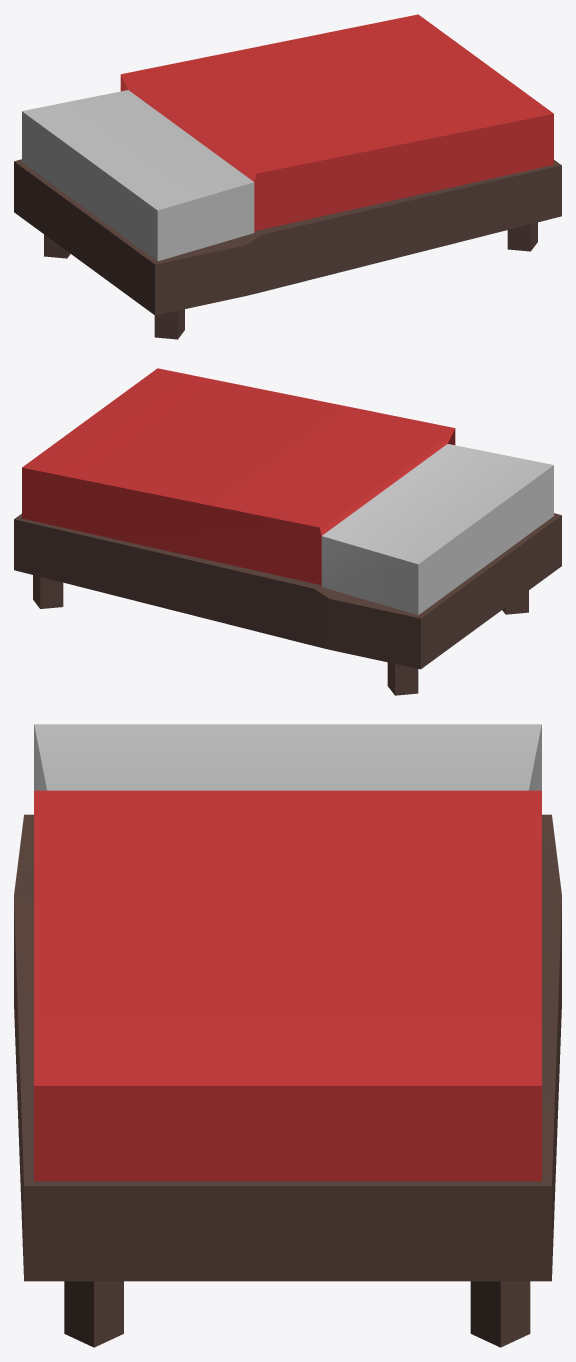
The model's file is Bed.fbx.
The picture shows the model from 3 angles, top to bottom: view 1: azimuth 30°, elevation 25°; view 2: azimuth 150°, elevation 25°; view 3: azimuth 270°, elevation 25°; orthographic projection. The views are drawn at different scales.
Parts seen in each view (by area): view 1: Bed; view 2: Bed; view 3: Bed.
Part boxes in pixels (box(x1,y1,x2,y2)): Bed: box(14, 14, 561, 339); Bed: box(14, 368, 561, 695); Bed: box(14, 724, 561, 1347).
Bounding box in the file's own units: 4.18 × 1.5 × 2.61.
1 material, 1 textured.
